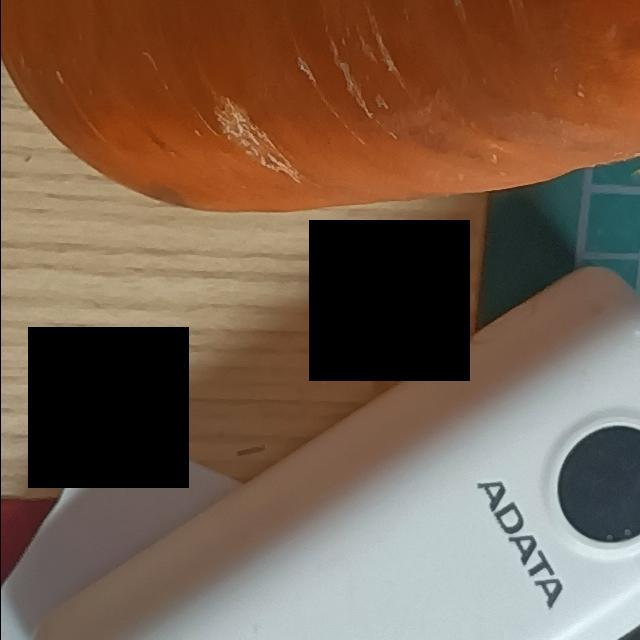carrot: (1, 1, 640, 230)
